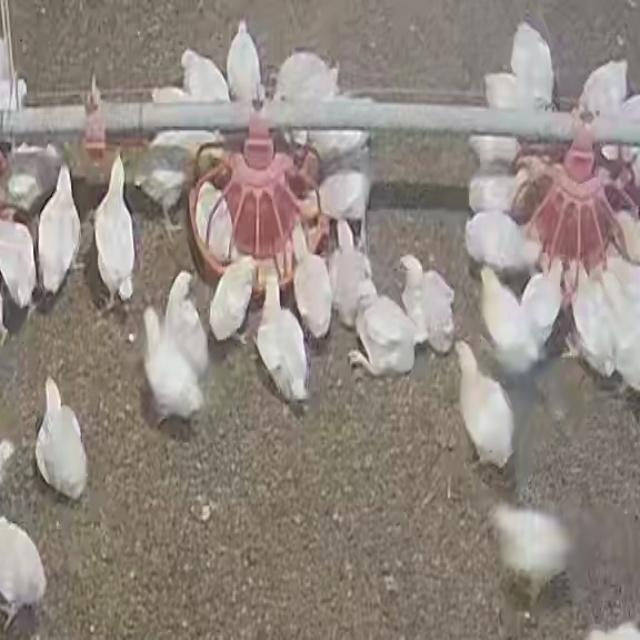chicken: (453, 340, 517, 472), (488, 498, 572, 596), (257, 270, 310, 405), (141, 308, 203, 423), (34, 375, 91, 499), (347, 270, 413, 373), (473, 270, 540, 369), (91, 157, 135, 304), (134, 137, 214, 216), (284, 218, 333, 342), (402, 251, 459, 348), (569, 259, 614, 377), (459, 210, 550, 267), (43, 162, 81, 298), (0, 518, 51, 617), (203, 250, 255, 337), (511, 18, 559, 112), (333, 212, 372, 321), (0, 212, 40, 318), (168, 265, 206, 368), (0, 143, 64, 203), (521, 260, 564, 348), (302, 172, 375, 223), (192, 179, 234, 265), (271, 48, 341, 99), (572, 58, 627, 119), (459, 166, 537, 208), (228, 22, 266, 101), (484, 70, 541, 122), (292, 119, 366, 158), (181, 42, 222, 105), (467, 126, 521, 166)
